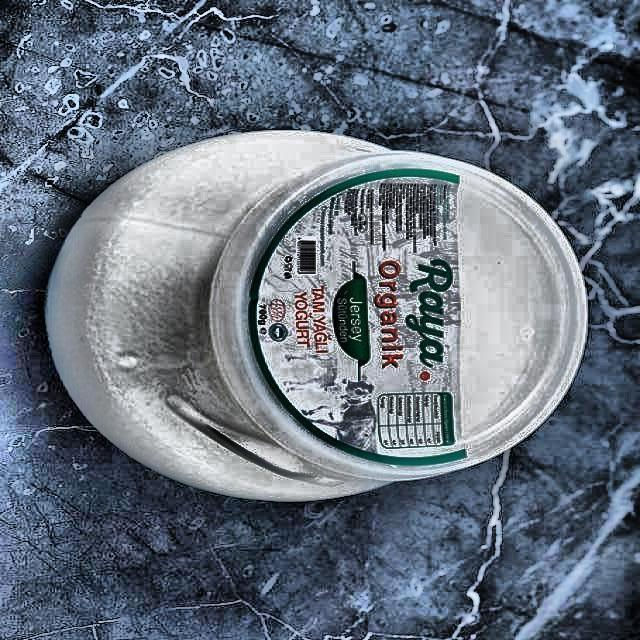plastic: (47, 131, 587, 500)
